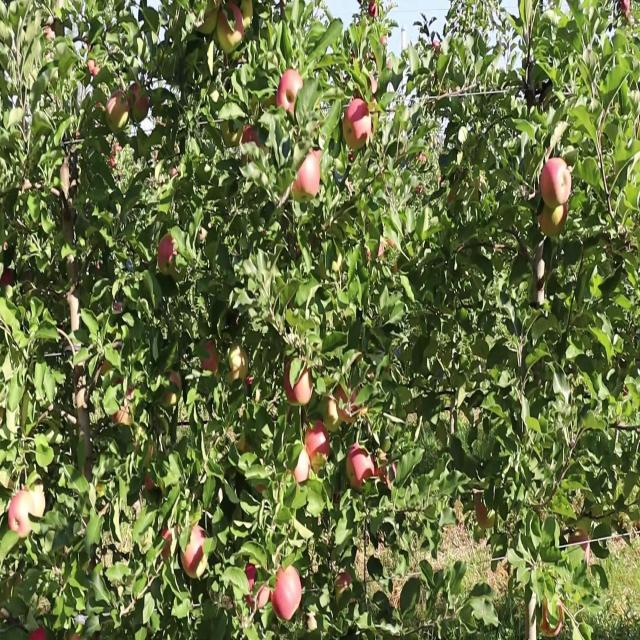apple: (272, 568, 304, 620), (540, 156, 573, 206), (284, 355, 314, 405), (344, 99, 374, 146), (180, 526, 207, 576), (276, 71, 304, 119), (304, 419, 331, 468), (332, 383, 363, 425), (220, 7, 245, 59), (8, 490, 32, 540), (540, 200, 568, 240), (348, 447, 372, 491), (112, 383, 136, 427), (348, 99, 372, 142), (540, 597, 565, 638), (300, 156, 322, 199), (128, 85, 151, 124), (44, 14, 65, 55), (368, 234, 395, 263), (108, 92, 127, 133), (164, 369, 184, 404), (344, 113, 362, 151), (200, 341, 220, 375), (160, 234, 180, 268), (372, 234, 396, 261), (228, 348, 248, 380), (292, 455, 312, 485), (200, 7, 220, 37), (112, 376, 136, 400), (244, 127, 264, 155), (244, 568, 257, 610), (372, 447, 388, 480), (376, 455, 392, 484), (112, 405, 132, 427), (336, 568, 352, 594), (384, 462, 398, 491), (292, 177, 307, 204), (256, 590, 272, 612), (160, 533, 173, 560), (476, 504, 490, 528), (112, 142, 123, 172), (32, 625, 48, 639), (88, 63, 101, 80), (144, 476, 157, 491), (4, 270, 16, 286), (368, 7, 380, 21), (84, 462, 92, 480), (248, 376, 254, 389)
